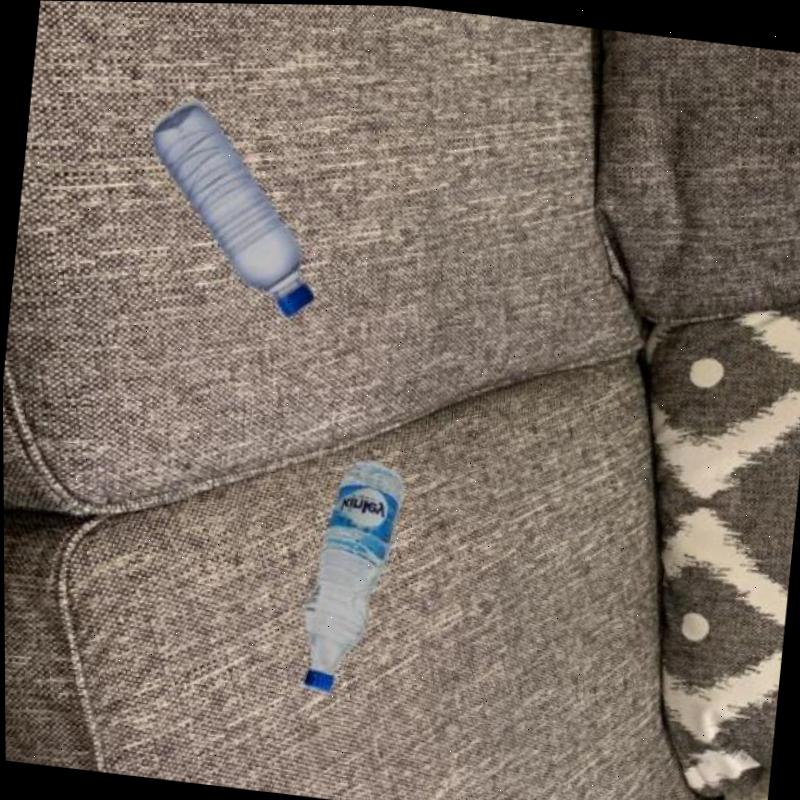botella: (129, 96, 336, 321), (294, 449, 407, 701)
